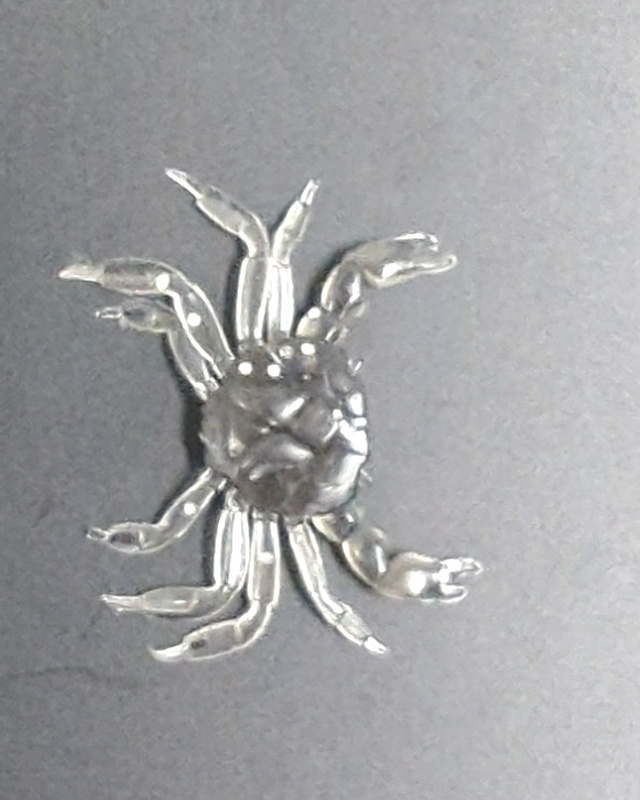crab1: (53, 167, 486, 663)
